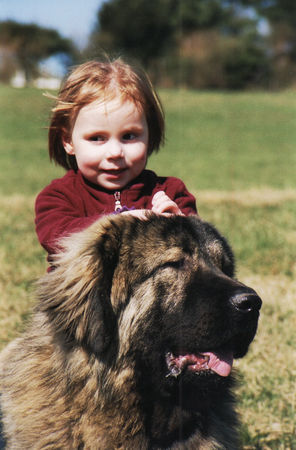cau_ovcharka: (0, 211, 262, 450)
human_face: (60, 104, 148, 190)
person: (34, 51, 199, 277)
